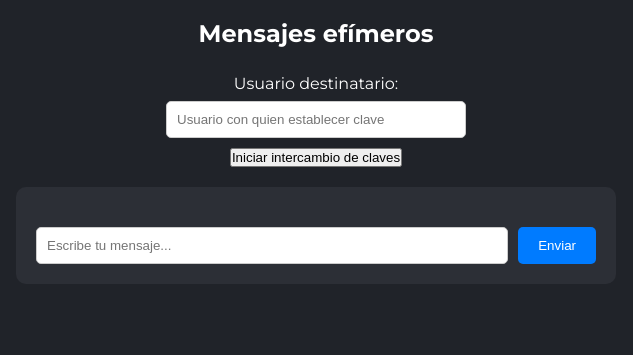
it: EphemeralMessages › renders header and when no key, sending shows log about missing key
Expected: the heading "Mensajes efímeros" is shown, [198,16,433,52]
# Type a message in the input and click Enviar
Type "hello" into the field named "Mensaje efímero" at (272, 246), box [36,227,508,264]
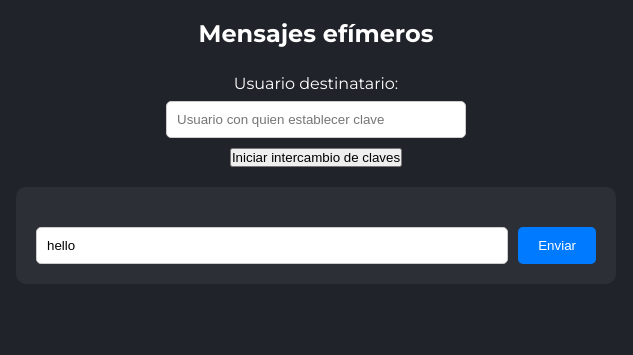
Click the button "Enviar" at (557, 246), box [518,227,596,264]
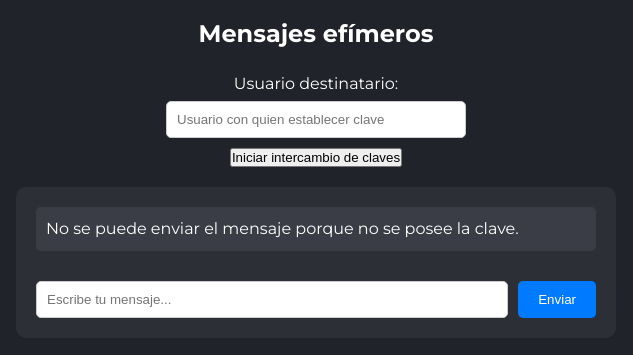
Now the text "No se puede enviar el mensaje porque no se posee la clave." is shown, box [36,207,596,251]
